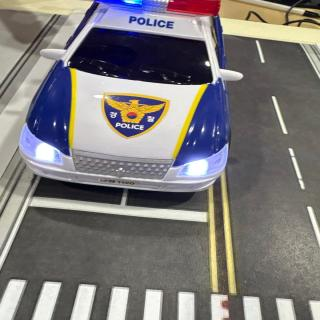Police_car: (19, 0, 243, 191)
